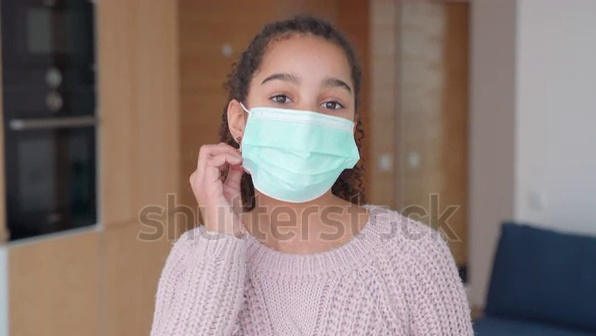Mask: (224, 106, 361, 205)
